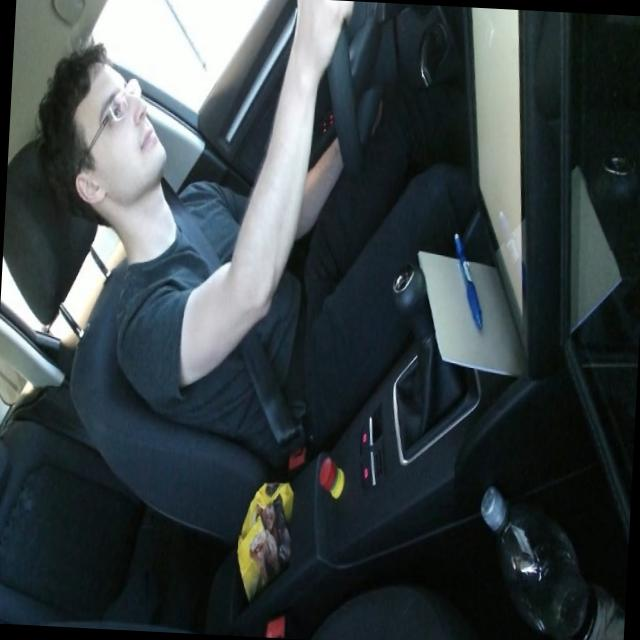pen: (448, 229, 488, 331)
